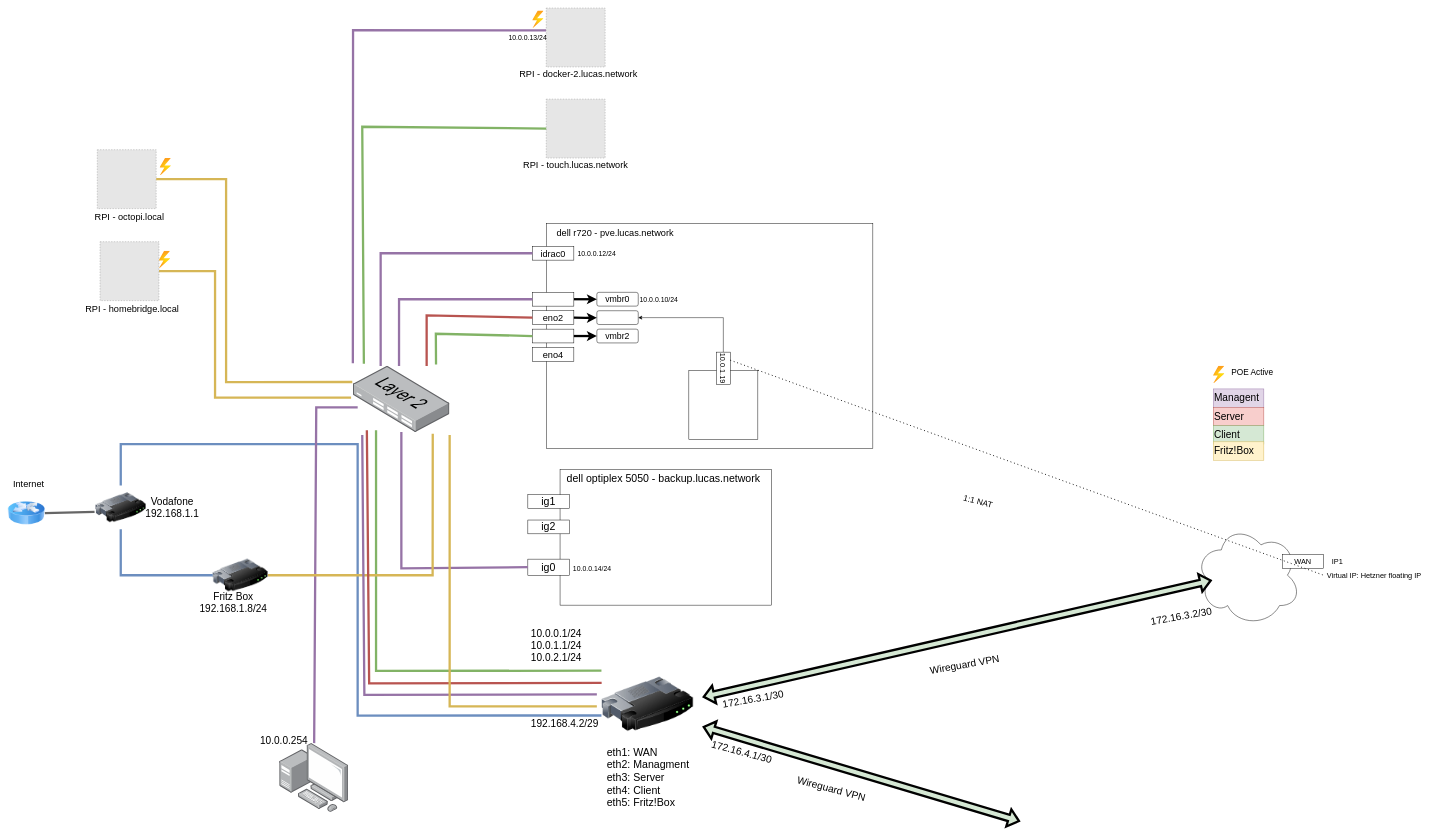
This 1432x836 diagram has some shape labels left out. Grey dashed boxes stand in for pictures. Each missing label, with the box of its shape:
eno1: (532, 292, 574, 306)
eno3: (532, 329, 574, 343)
Mailcow: (688, 370, 758, 440)
pfSense: (1194, 524, 1301, 626)
vmbr1: (596, 310, 638, 325)
